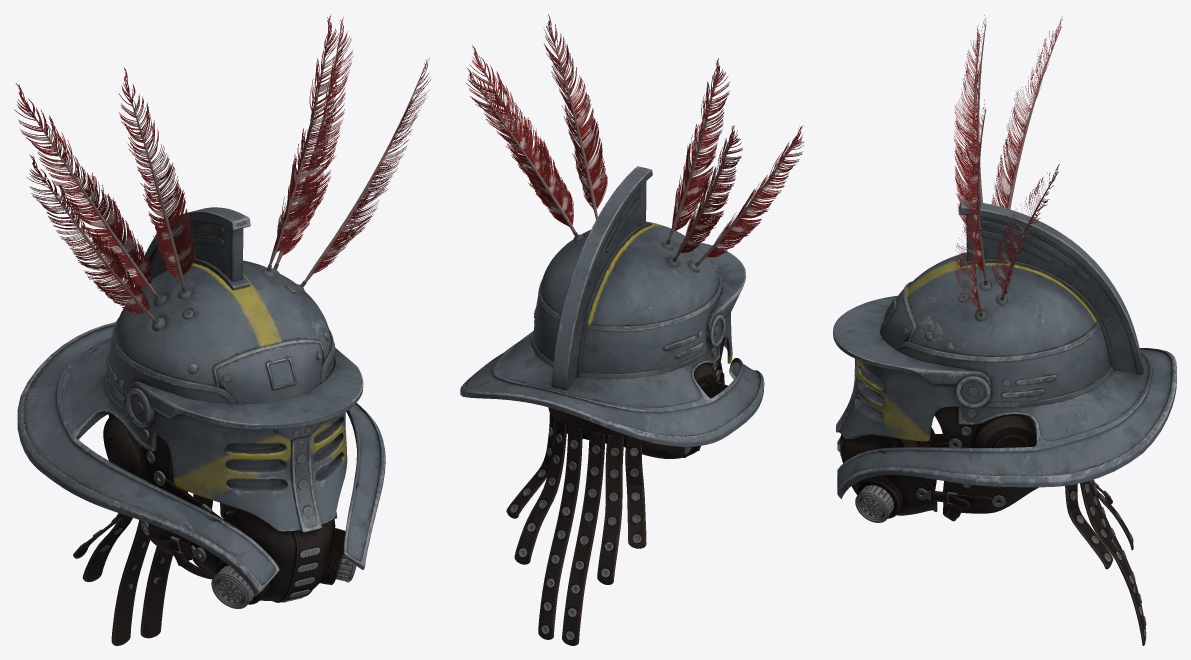
File: helmet-transformed.glb
The picture shows the model from 3 angles, left to right: view 1: azimuth 30°, elevation 25°; view 2: azimuth 150°, elevation 25°; view 3: azimuth 270°, elevation 25°; orthographic projection. The views are drawn at different scales.
Visible parts, largest first — view 1: Main_Metal1, polySurface6, polySurface6256, polySurface4358, polySurface6218, polySurface4888, polySurface5058, polySurface4966, polySurface2207, polySurface6269; view 2: Main_Metal1, polySurface6, polySurface6218, polySurface4966, polySurface4358, polySurface2207, polySurface4888, polySurface6256, polySurface5058; view 3: Main_Metal1, polySurface6, polySurface6256, polySurface4888, polySurface2207, polySurface4966, polySurface4358, polySurface6218, polySurface6269, polySurface5058.
Part boxes in pixels (x1,y1,x2,y2): Main_Metal1: (17,207,385,596); polySurface6: (73,413,345,645); polySurface6256: (14,83,155,294); polySurface4358: (118,67,196,287); polySurface6218: (269,14,343,265); polySurface4888: (26,154,154,319); polySurface5058: (304,58,431,282); polySurface4966: (276,17,352,264); polySurface2207: (78,263,349,601); polySurface6269: (211,547,356,608); Main_Metal1: (460,166,764,446); polySurface6: (506,337,727,645); polySurface6218: (543,14,607,219); polySurface4966: (466,68,575,233); polySurface4358: (668,58,729,239); polySurface2207: (510,232,721,640); polySurface4888: (699,125,803,262); polySurface6256: (675,125,742,258); polySurface5058: (469,45,572,231); Main_Metal1: (833,200,1176,499); polySurface6: (840,407,1145,645); polySurface6256: (991,16,1062,209); polySurface4888: (954,25,981,224); polySurface2207: (842,252,1146,638); polySurface4966: (991,164,1059,296); polySurface4358: (960,15,986,202); polySurface6218: (960,100,986,280); polySurface6269: (840,444,893,522); polySurface5058: (955,196,981,313).
Bounding box in the file's own units: 0.0389 × 0.0614 × 0.0328.
Materials: 6 (6 with a texture image).
